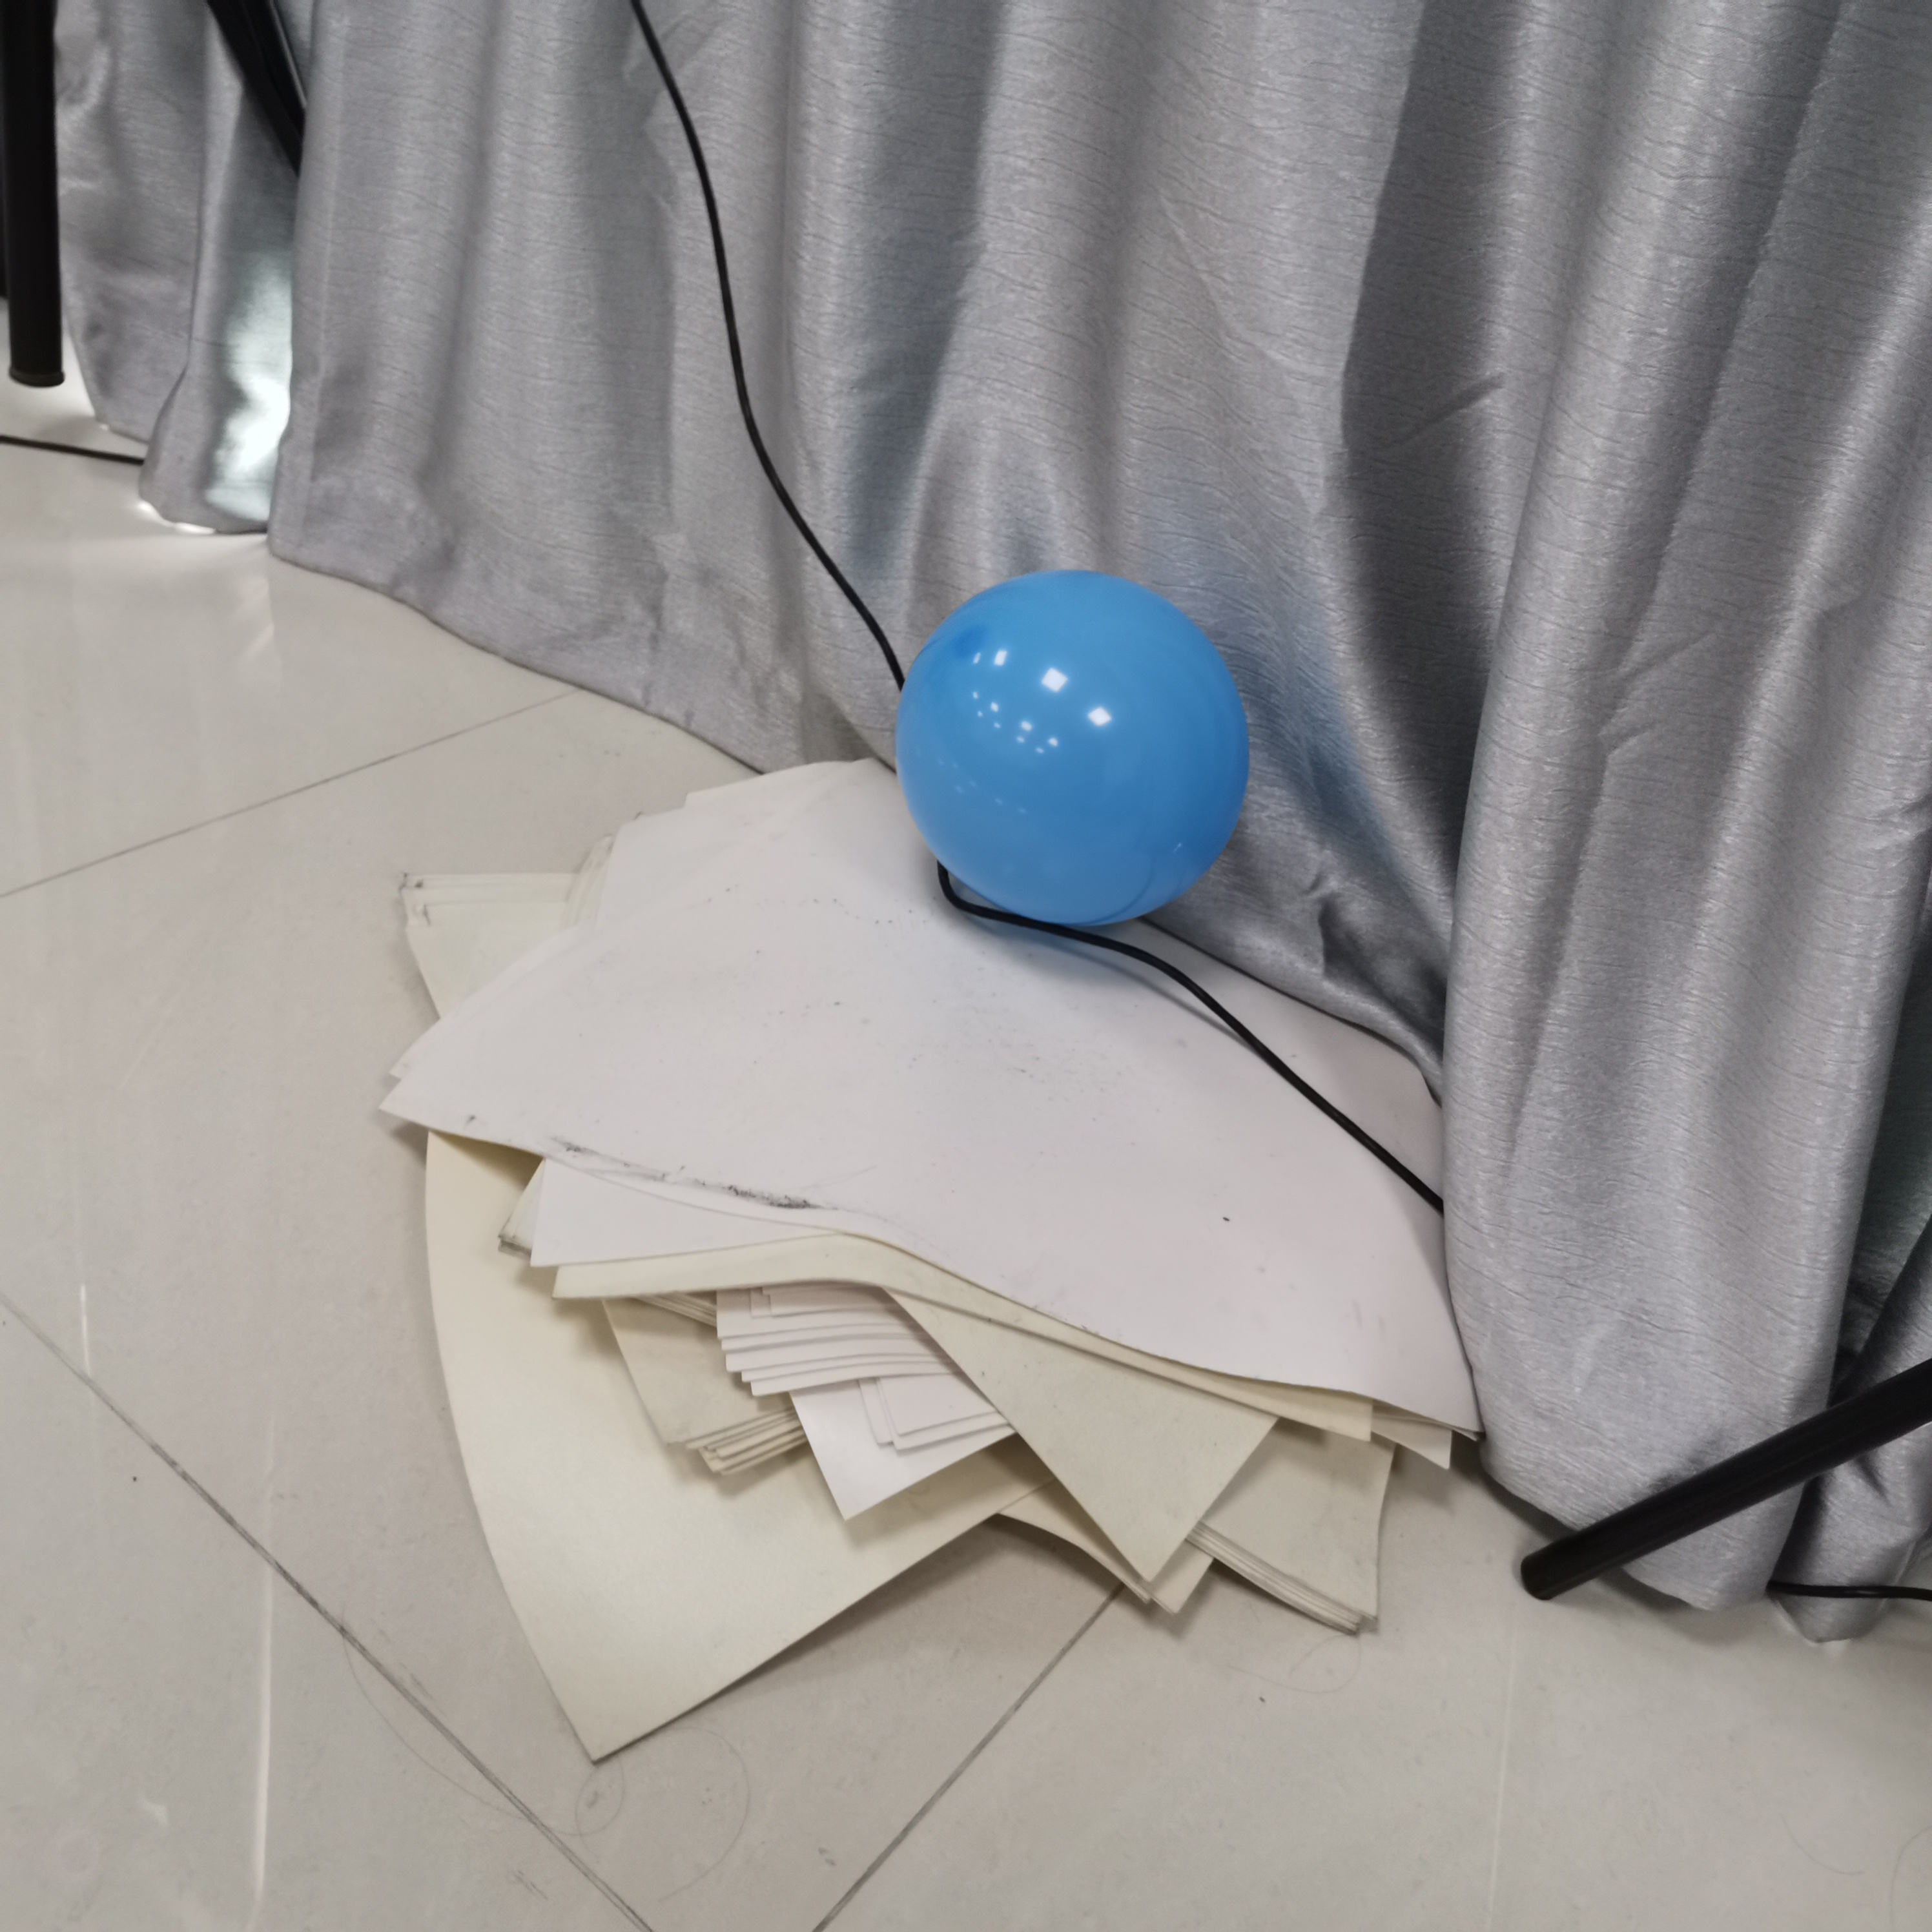balloon: (893, 566, 1249, 927)
